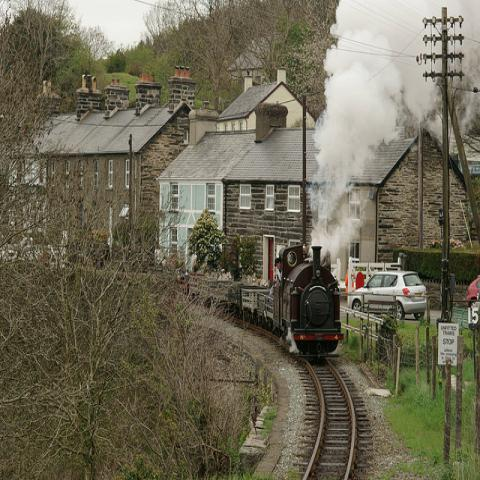car: (346, 271, 427, 322), (466, 275, 479, 309)
